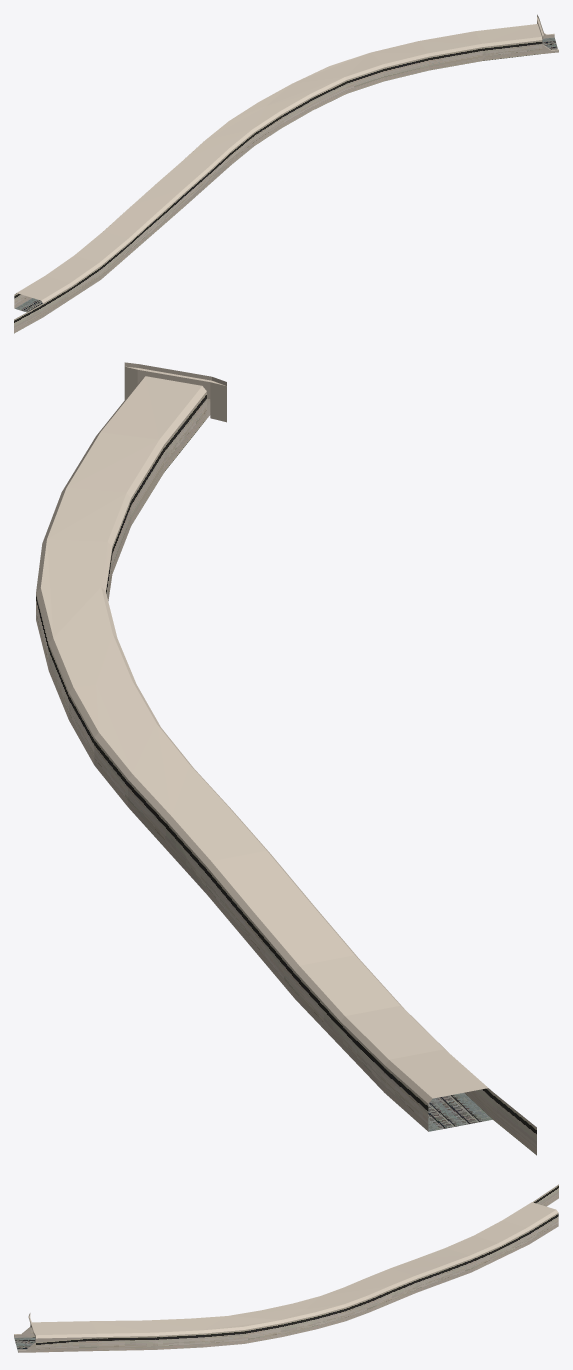
Rendered from lodtrainstuff37.obj.
3 views of the same model, one above another, from view 1: azimuth 90°, elevation 25°; view 2: azimuth 150°, elevation 25°; view 3: azimuth 270°, elevation 25° (orthographic). The views are drawn at different scales.
Parts seen in each view (by area): view 1: LODtrainstuff37; view 2: LODtrainstuff37; view 3: LODtrainstuff37.
Part boxes in pixels (bbox=[...]): LODtrainstuff37: bbox=[14, 14, 558, 333]; LODtrainstuff37: bbox=[36, 362, 536, 1155]; LODtrainstuff37: bbox=[14, 1184, 558, 1352].
Size of the model in its own units: 169 by 32.05 by 171.
Materials: 2 (2 with a texture image).
